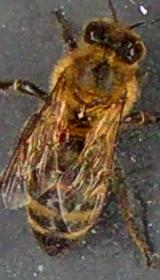varroa_mite: (38, 115, 72, 149)
